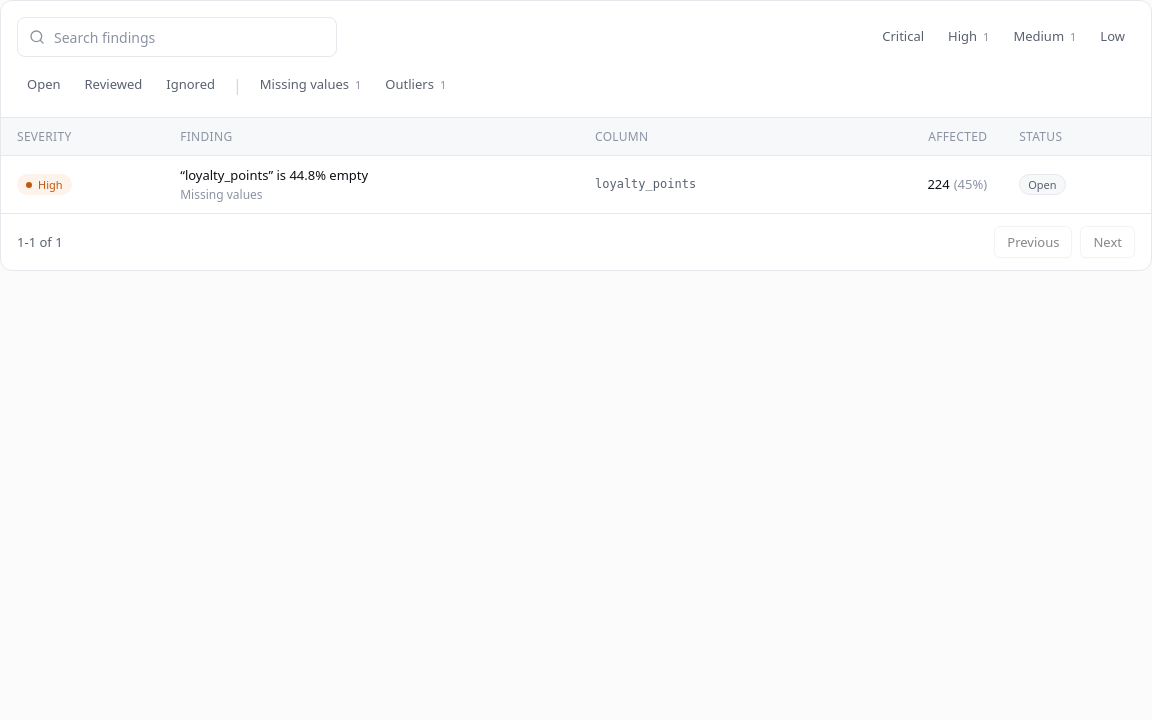
Test case: DatasetFindingsPage › opens the detail dialog and answers all five questions
The width and height of the screenshot is (1152, 720).
Click the button "“loyalty_points” is 44.8% empty Missing values".
click(274, 175)  # box [180, 166, 563, 203]
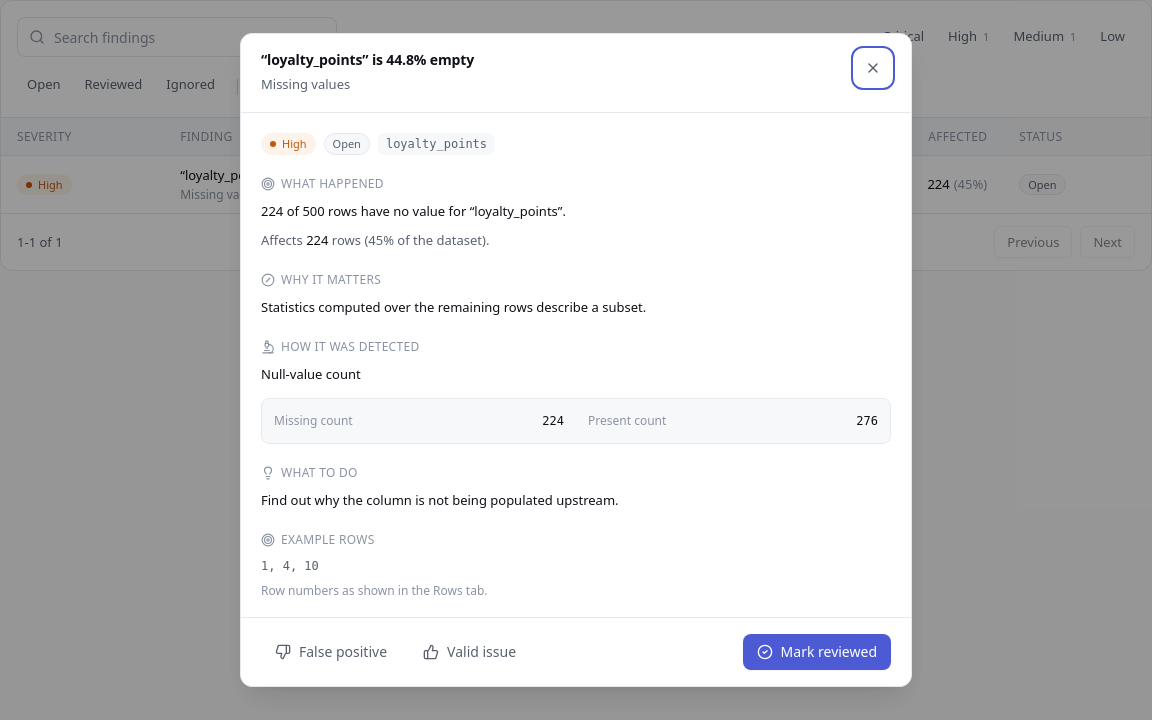
Expected: the heading "What happened" is shown, [261, 175, 384, 192]
Expected: the heading "Why it matters" is shown, [261, 271, 381, 288]
Expected: the heading "How it was detected" is shown, [261, 338, 420, 355]
